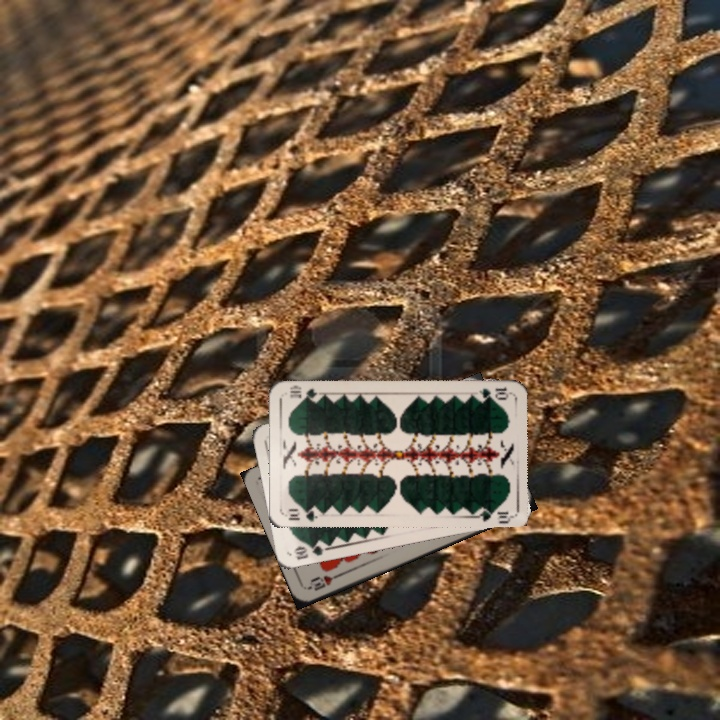G10: (290, 538, 331, 562), (284, 504, 323, 523), (475, 383, 512, 402)
H10: (305, 569, 343, 593)
